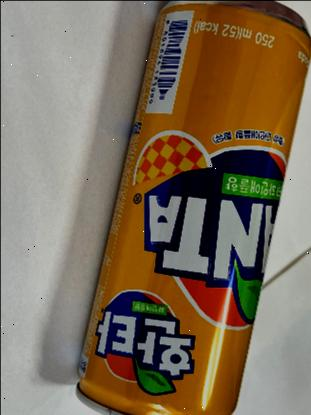Can: (70, 0, 311, 415)
